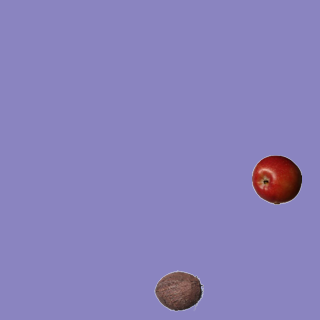Apple Braeburn: (251, 154, 301, 204)
Cocos: (153, 265, 203, 315)
